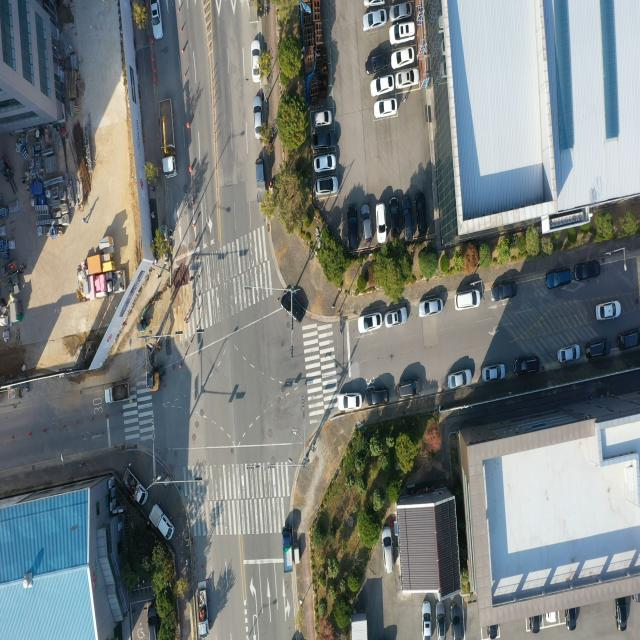car: (279, 292, 306, 323), (413, 190, 428, 234), (337, 388, 363, 413), (366, 382, 391, 408), (546, 269, 572, 291), (150, 0, 164, 40), (348, 202, 359, 251), (390, 46, 414, 68), (364, 8, 388, 30), (514, 356, 540, 376), (383, 528, 394, 575), (596, 301, 620, 322), (576, 262, 600, 283), (389, 196, 401, 238), (447, 370, 472, 390), (491, 282, 516, 302), (402, 194, 413, 239), (454, 290, 480, 309), (366, 53, 388, 75), (384, 308, 408, 328), (362, 201, 374, 241), (251, 40, 261, 87), (376, 98, 398, 119), (618, 330, 640, 351), (434, 598, 445, 640), (482, 363, 505, 382), (419, 300, 443, 318), (372, 77, 393, 97), (396, 69, 418, 88), (394, 23, 416, 42), (314, 131, 336, 150), (558, 344, 580, 363), (358, 314, 381, 332), (615, 598, 627, 632), (314, 177, 336, 195), (586, 340, 608, 358), (377, 204, 387, 242), (314, 156, 336, 173), (397, 381, 419, 398), (390, 3, 410, 21), (452, 602, 461, 640), (564, 607, 577, 633), (253, 96, 261, 136), (423, 603, 432, 638), (315, 110, 332, 127), (487, 623, 501, 640), (363, 0, 385, 7)
medium_truck: (158, 101, 177, 177)
small_truck: (124, 464, 148, 509), (196, 576, 211, 636), (150, 503, 173, 540), (282, 523, 294, 572), (104, 384, 128, 405), (256, 159, 266, 202)
